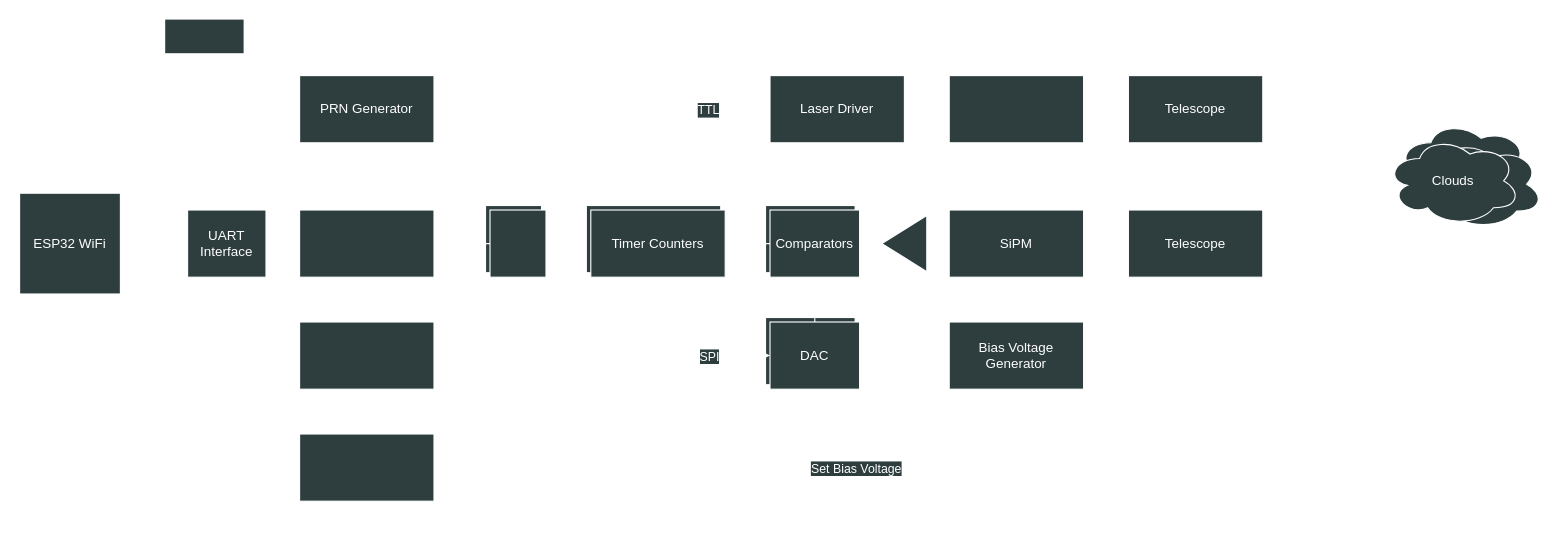
Image size: 1564x543. Some labels were removed from this diagram. Each missing label, with the centre of its shape:
"940 nm Laser Diode" belongs at [1016,108].
"AMP" belongs at [904,243].
"Bias controller" belongs at [366,467].
"Circular Buffers" belongs at [517,243].
"FFT Correlator" belongs at [366,243].
"Pulse Height Discrimitator" belongs at [366,355].
"RP2350" belongs at [204,36].
